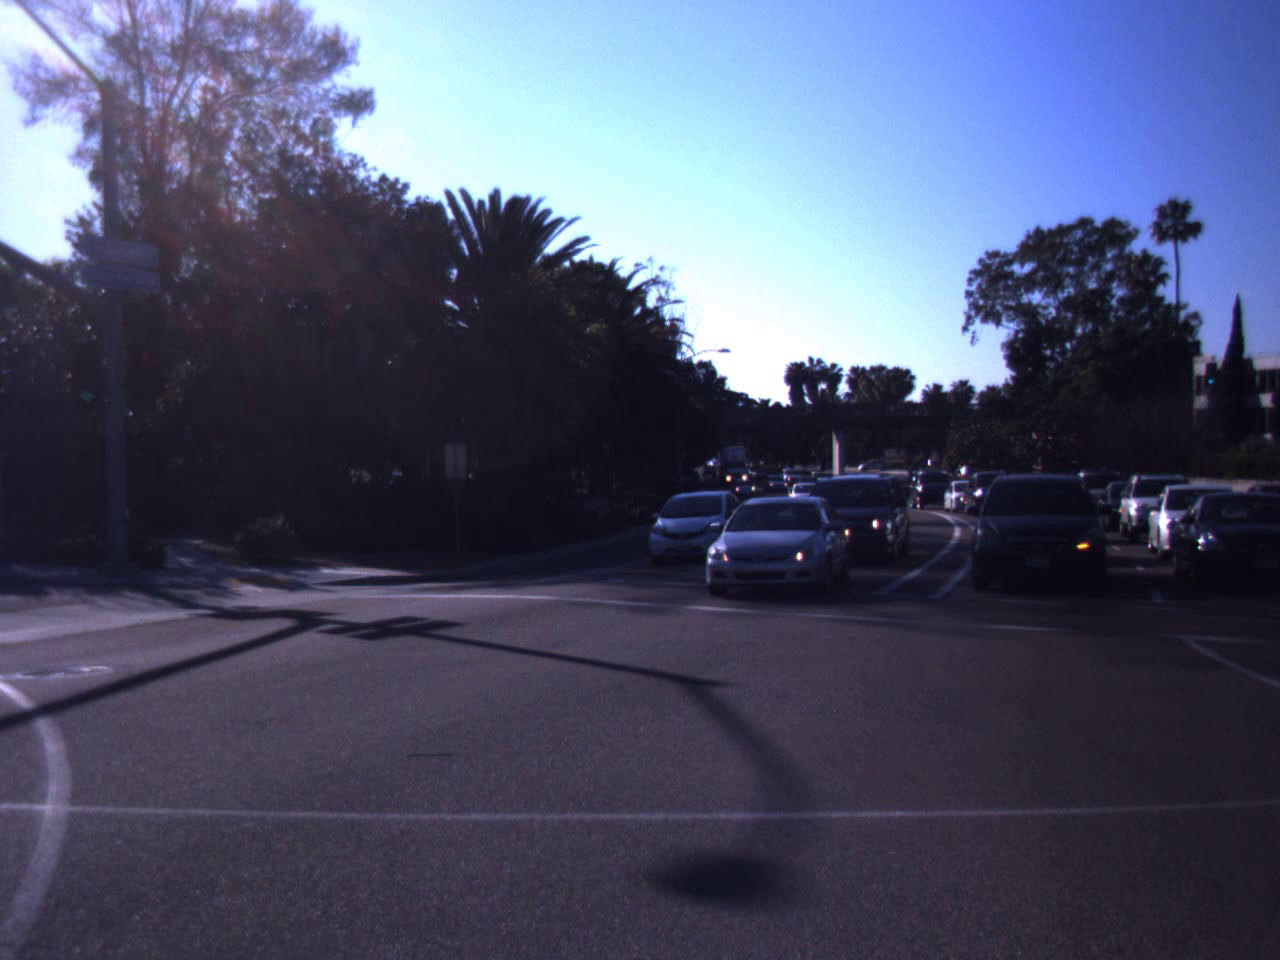go: (62, 343, 113, 408)
